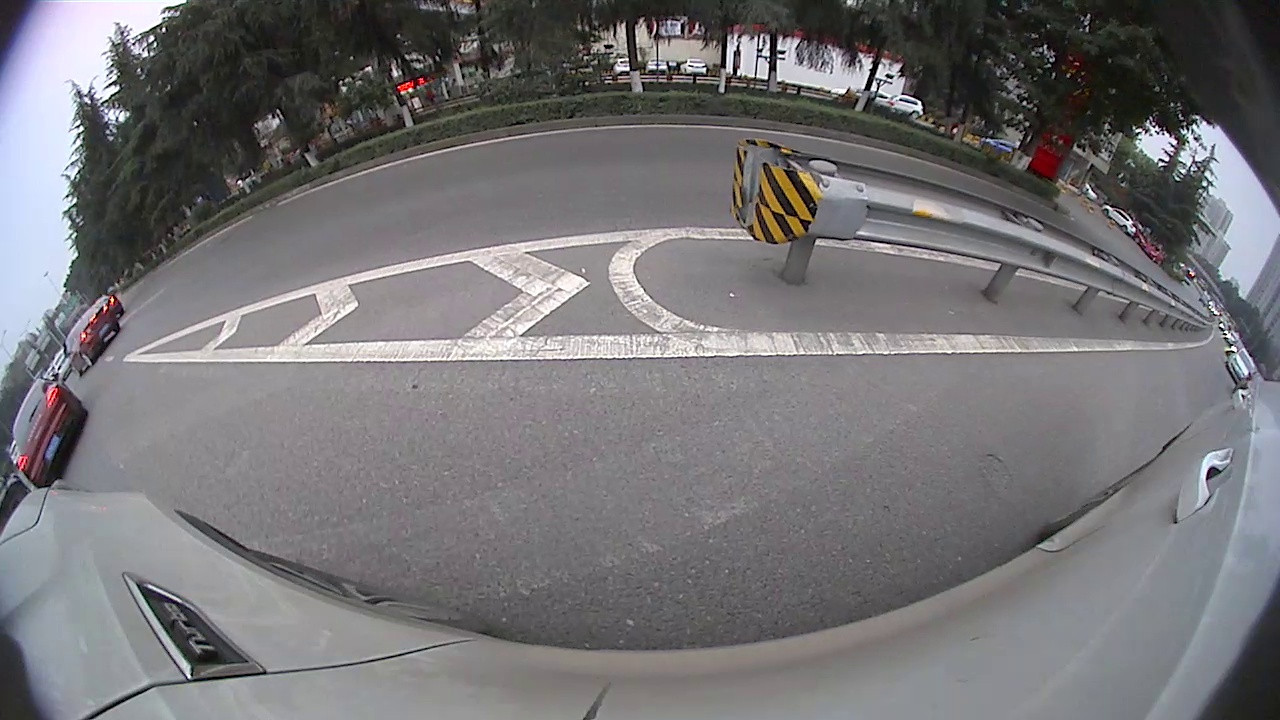car: (12, 377, 89, 489), (61, 296, 123, 372), (1222, 346, 1260, 387)
rear: (79, 352, 97, 371)
